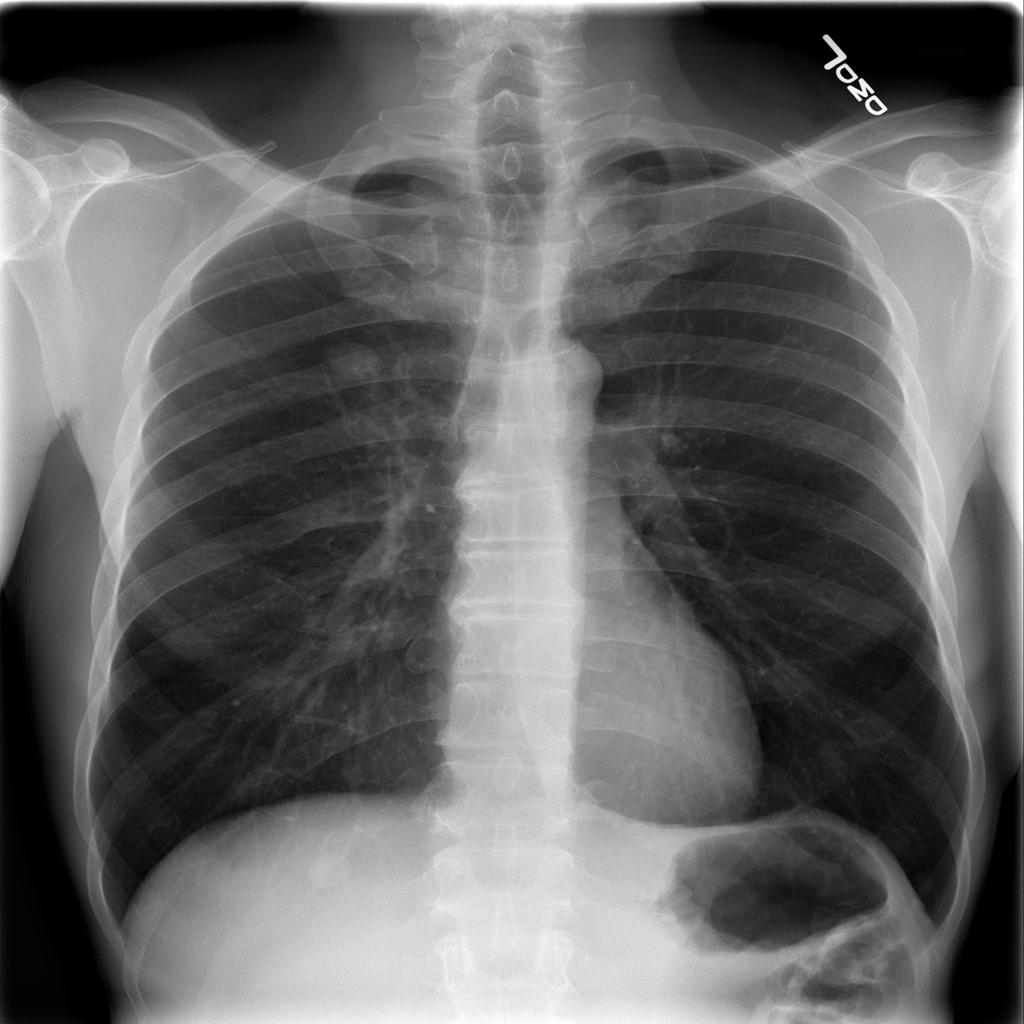nodule: (311, 333, 399, 395), (294, 833, 368, 904)
